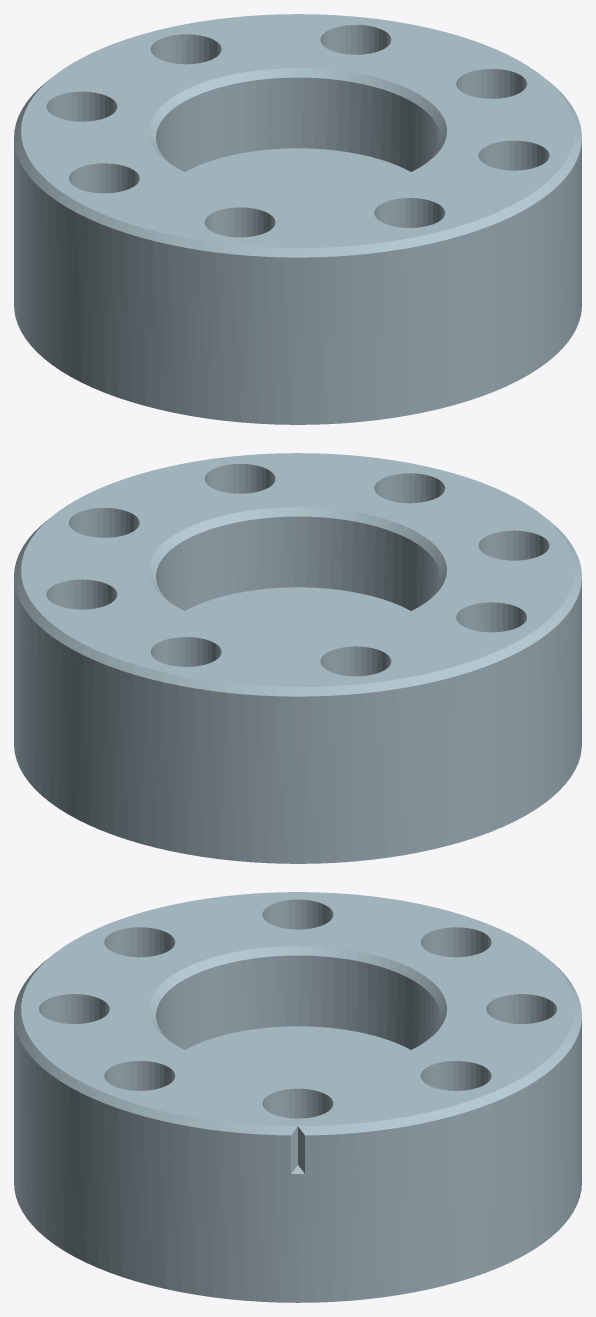
Rendered from KukaKR4Link6.dae.
The picture shows the model from 3 angles, top to bottom: view 1: azimuth 30°, elevation 25°; view 2: azimuth 150°, elevation 25°; view 3: azimuth 270°, elevation 25°; orthographic projection.
Parts seen in each view (by area): view 1: KR4Link6; view 2: KR4Link6; view 3: KR4Link6.
Boxes of the visible parts, x1,y1,x2,y2 form: KR4Link6: (14,14,581,424); KR4Link6: (14,453,581,863); KR4Link6: (14,892,581,1302).
Size of the model in its own units: 0.02 by 0.02 by 0.00675.
